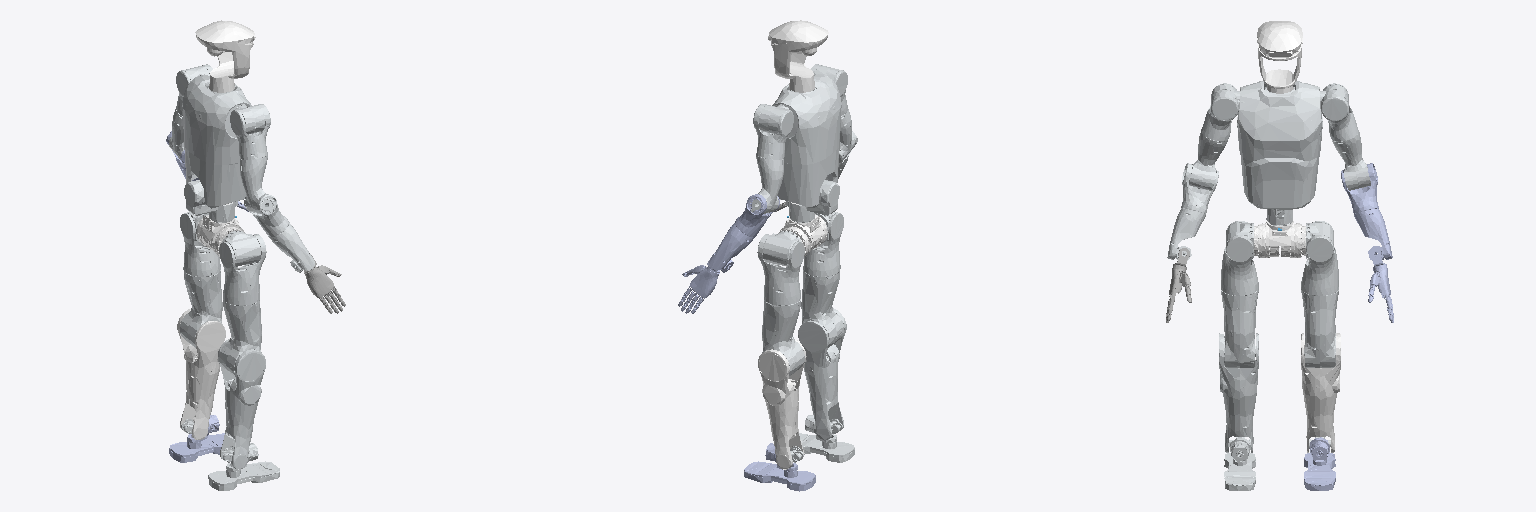
--- What the picture shows (computed from the rendered views, not written in the file) ---
The picture shows the robot from 3 angles, left to right: view 1: azimuth 30°, elevation 25°; view 2: azimuth 150°, elevation 25°; view 3: azimuth 270°, elevation 25°; orthographic projection.
Model T170-V2.1-A0-mass with 42 links and 41 joints (12 revolute, 29 fixed), rooted at base_link, posed all joints at 0.
Links seen in each view (by area): view 1: WAIST_P_S, R_KNEE_P_S, L_KNEE_P_S, NECK_Y_S, R_HIP_Y_S, L_HIP_Y_S, R_HIP_R_S, R_ANKLE_R_S, L_HIP_R_S, R_SHOULDER_R_S, L_ANKLE_R_S, R_SHOULDER_Y_S (+7 smaller); view 2: WAIST_P_S, L_KNEE_P_S, R_KNEE_P_S, NECK_Y_S, L_HIP_Y_S, R_HIP_Y_S, L_HIP_R_S, L_ANKLE_R_S, R_HIP_R_S, L_SHOULDER_R_S, R_ANKLE_R_S, L_SHOULDER_Y_S (+7 smaller); view 3: WAIST_P_S, L_KNEE_P_S, R_KNEE_P_S, NECK_Y_S, R_HIP_Y_S, L_HIP_Y_S, L_HIP_R_S, R_HIP_R_S, base_link, R_ANKLE_R_S, L_ANKLE_R_S, R_SHOULDER_R_S (+9 smaller).
Boxes of the visible links, <box> form: WAIST_P_S: <box>182,74,253,208</box>; R_KNEE_P_S: <box>218,339,265,469</box>; L_KNEE_P_S: <box>177,309,225,439</box>; NECK_Y_S: <box>195,20,255,92</box>; R_HIP_Y_S: <box>219,300,261,375</box>; L_HIP_Y_S: <box>180,271,222,347</box>; R_HIP_R_S: <box>219,234,266,305</box>; R_ANKLE_R_S: <box>208,443,279,490</box>; L_HIP_R_S: <box>180,213,220,276</box>; R_SHOULDER_R_S: <box>230,104,270,159</box>; L_ANKLE_R_S: <box>169,415,224,462</box>; R_SHOULDER_Y_S: <box>240,155,272,213</box>; WAIST_P_S: <box>772,74,841,207</box>; L_KNEE_P_S: <box>758,339,806,469</box>; R_KNEE_P_S: <box>798,308,846,439</box>; NECK_Y_S: <box>768,20,828,92</box>; L_HIP_Y_S: <box>762,300,804,375</box>; R_HIP_Y_S: <box>801,271,843,347</box>; L_HIP_R_S: <box>757,234,804,305</box>; L_ANKLE_R_S: <box>744,443,815,491</box>; R_HIP_R_S: <box>803,213,843,276</box>; L_SHOULDER_R_S: <box>753,104,793,159</box>; R_ANKLE_R_S: <box>799,415,854,462</box>; L_SHOULDER_Y_S: <box>750,155,783,213</box>; WAIST_P_S: <box>1237,81,1322,209</box>; L_KNEE_P_S: <box>1301,333,1340,452</box>; R_KNEE_P_S: <box>1219,333,1258,452</box>; NECK_Y_S: <box>1257,21,1302,93</box>; R_HIP_Y_S: <box>1221,290,1258,367</box>; L_HIP_Y_S: <box>1301,290,1338,367</box>; L_HIP_R_S: <box>1301,221,1338,295</box>; R_HIP_R_S: <box>1221,221,1258,295</box>; base_link: <box>1254,221,1305,257</box>; R_ANKLE_R_S: <box>1224,438,1255,490</box>; L_ANKLE_R_S: <box>1304,437,1335,490</box>; R_SHOULDER_R_S: <box>1201,83,1238,141</box>.
Size in the robot's own frame: 0.4382 by 0.7899 by 1.72 metres.
Meshes: 31 distinct files referenced, 31 mesh visuals loaded (31 binary STL).

URDF robot description (T170-V2.1-A0-mass):
<?xml version="1.0" encoding="utf-8"?>
<!-- This URDF was automatically created by SolidWorks to URDF Exporter! Originally created by Stephen Brawner ([email redacted])
     Commit Version: 1.6.0-4-g7f85cfe  Build Version: 1.6.7995.38578
     For more information, please see http://wiki.ros.org/sw_urdf_exporter -->
<robot
  name="T170-V2.1-A0-mass">
  <link
    name="base_link">
    <inertial>
      <origin
      xyz="-6.500000000000001e-05 1e-06 -0.045045"
      rpy="0 0 0" />
      <mass
        value="5.294303" />
      <inertia
        ixx="0.024433582611999998"
        ixy="1.3235e-07"
        ixz="1.4710277000000001e-05"
        iyy="0.016612578556"
        iyz="-1.68893e-07"
        izz="0.016497152209000002" />
      </inertial>
    <visual>
      <origin
        xyz="0 0 0"

        rpy="0 0 0" />
      <geometry>
        <mesh
          filename="./meshes/BASE_S.STL" />
      </geometry>
      <material
        name="">
        <color
          rgba="1 1 1 1" />
      </material>
    </visual>
    <collision>
      <origin
        xyz="0 0 -0.08"
        rpy="1.57 0 0" />
			<geometry>
				<cylinder length="0.2" radius="0.05"/>
			</geometry>
    </collision>
  </link>

  <link
    name="L_HIP_P_S">
    <inertial>
              <origin
                xyz="0.012891999999999999 0.041366999999999994 1e-06"
                rpy="0 0 0" />
              <mass
                value="1.60224" />
              <inertia
                ixx="0.002350403566"
                ixy="-7.038434699999999e-05"
                ixz="1.8192000000000002e-08"
                iyy="0.0026586781120000002"
                iyz="5.7659e-08"
                izz="0.0023079587030000004" />
            </inertial>
    <visual>
      <origin
        xyz="0 0 0"
        rpy="0 0 0" />
      <geometry>
        <mesh
          filename="./meshes/L_HIP_P_S.STL" />
      </geometry>
      <material
        name="">
        <color
          rgba="0.898039215686275 0.917647058823529 0.929411764705882 1" />
      </material>
    </visual>
    <!--<collision>
      <origin
        xyz="0 0 0"
        rpy="0 0 0" />
      <geometry>
        <mesh
          filename="./meshes/L_HIP_P_S.STL" />
      </geometry>
    </collision>-->
  </link>
  <joint
    name="L_HIP_P"
    type="revolute">
    <origin
      xyz="0 0.0945 -0.067"
      rpy="0 0 0" />
    <parent
      link="base_link" />
    <child
      link="L_HIP_P_S" />
    <axis
      xyz="0 1 0" />
    <limit
      lower="-3.14"
      upper="3.14"
      effort="267"
      velocity="5.76" />
  </joint>
  <link
    name="L_HIP_R_S">
    <inertial>
              <origin
                xyz="-0.052494 0.001116 -0.135556"
                rpy="0 0 0" />
              <mass
                value="2.123182" />
              <inertia
                ixx="0.007651730159"
                ixy="-1.0006102999999999e-05"
                ixz="-0.001027271998"
                iyy="0.008350014866"
                iyz="-0.00015041607399999998"
                izz="0.003346951658" />
            </inertial>
    <visual>
      <origin
        xyz="0 0 0"
        rpy="0 0 0" />
      <geometry>
        <mesh
          filename="./meshes/L_HIP_R_S.STL" />
      </geometry>
      <material
        name="">
        <color
          rgba="0.898039215686275 0.917647058823529 0.929411764705882 1" />
      </material>
    </visual>
    <!--<collision>
      <origin
        xyz="0 0 0"
        rpy="0 0 0" />
      <geometry>
        <mesh
          filename="./meshes/L_HIP_R_S.STL" />
      </geometry>
    </collision>-->
  </link>
  <joint
    name="L_HIP_R"
    type="revolute">
    <origin
      xyz="0.058 0.044 0"
      rpy="0 0 0" />
    <parent
      link="L_HIP_P_S" />
    <child
      link="L_HIP_R_S" />
    <axis
      xyz="1 0 0" />
    <limit
      lower="-3.14"
      upper="3.14"
      effort="69"
      velocity="8.06" />
  </joint>
  <link
    name="L_HIP_Y_S">
    <inertial>
              <origin
                xyz="0.001701 0.007194 -0.198857"
                rpy="0 0 0" />
              <mass
                value="3.313186" />
              <inertia
                ixx="0.017727672841"
                ixy="-6.456893699999999e-05"
                ixz="-0.000408727743"
                iyy="0.018146293801"
                iyz="-0.00033327960600000004"
                izz="0.006599402896" />
            </inertial>
    <visual>
      <origin
        xyz="0 0 0"
        rpy="0 0 0" />
      <geometry>
        <mesh
          filename="./meshes/L_HIP_Y_S.STL" />
      </geometry>
      <material
        name="">
        <color
          rgba="0.898039215686275 0.917647058823529 0.929411764705882 1" />
      </material>
    </visual>
    <collision>
      <origin
        xyz="0 0.0 -0.05"
        rpy="0 0 0" />
			<geometry>
				<cylinder length="0.2" radius="0.05"/>
			</geometry>
    </collision>
  </link>
  <joint
    name="L_HIP_Y"
    type="revolute">
    <origin
      xyz="-0.058 0 -0.1972"
      rpy="0 0 0" />
    <parent
      link="L_HIP_R_S" />
    <child
      link="L_HIP_Y_S" />
    <axis
      xyz="0 0 -1" />
    <limit
      lower="-3.14"
      upper="3.14"
      effort="121"
      velocity="6.81" />
  </joint>
  <link
    name="L_KNEE_P_S">
    <inertial>
              <origin
                xyz="0.000631 -0.043392 -0.119632"
                rpy="0 0 0" />
              <mass
                value="2.644024" />
              <inertia
                ixx="0.025178069248"
                ixy="-6.2763632e-05"
                ixz="-0.00159828665"
                iyy="0.023717199600000002"
                iyz="-0.00031968927500000005"
                izz="0.006274894778" />
            </inertial>
    <visual>
      <origin
        xyz="0 0 0"
        rpy="0 0 0" />
      <geometry>
        <mesh
          filename="./meshes/L_KNEE_P_S.STL" />
      </geometry>
      <material
        name="">
        <color
          rgba="1 1 1 1" />
      </material>
    </visual>
    <collision>
      <origin
        xyz="0 -0.05 -0.15"
        rpy="0 0 0" />
			<geometry>
				<cylinder length="0.2" radius="0.05"/>
			</geometry>
    </collision>
  </link>
  <joint
    name="L_KNEE_P"
    type="revolute">
    <origin
      xyz="0 0.057 -0.2228"
      rpy="0 0 0" />
    <parent
      link="L_HIP_Y_S" />
    <child
      link="L_KNEE_P_S" />
    <axis
      xyz="0 1 0" />
    <limit
      lower="-3.14"
      upper="3.14"
      effort="267"
      velocity="5.76" />
  </joint>
  <link
    name="L_ANKLE_P_S">
    <inertial>
              <origin
                xyz="-0.0051920000000000004 -0.003552 0.001356"
                rpy="0 0 0" />
              <mass
                value="0.208363" />
              <inertia
                ixx="0.000112416441"
                ixy="1.092665e-06"
                ixz="7.950015000000001e-06"
                iyy="7.9570327e-05"
                iyz="-2.66666e-07"
                izz="0.00015223668599999998" />
            </inertial>
    <visual>
      <origin
        xyz="0 0 0"
        rpy="0 0 0" />
      <geometry>
        <mesh
          filename="./meshes/L_ANKLE_P_S.STL" />
      </geometry>
      <material
        name="">
        <color
          rgba="0.898039215686275 0.917647058823529 0.929411764705882 1" />
      </material>
    </visual>
    <!--<collision>
      <origin
        xyz="0 0 0"
        rpy="0 0 0" />
      <geometry>
        <mesh
          filename="./meshes/L_ANKLE_P_S.STL" />
      </geometry>
    </collision>-->
  </link>
  <joint
    name="L_ANKLE_P"
    type="revolute">
    <origin
      xyz="-0.032248 -0.058 -0.36859"
      rpy="0 0 0" />
    <parent
      link="L_KNEE_P_S" />
    <child
      link="L_ANKLE_P_S" />
    <axis
      xyz="0 -1 0" />
    <limit
      lower="-3.14"
      upper="3.14"
      effort="69"
      velocity="8.06" />
  </joint>
  <link
    name="L_ANKLE_R_S">
    <inertial>
              <origin
                xyz="0.016272 2e-06 -0.054217"
                rpy="0 0 0" />
              <mass
                value="1.670521" />
              <inertia
                ixx="0.0034800322570000004"
                ixy="1.9162e-07"
                ixz="-0.000268219044"
                iyy="0.008485757659"
                iyz="1.3101000000000001e-08"
                izz="0.006910381204" />
            </inertial>
    <visual>
      <origin
        xyz="0 0 0"
        rpy="0 0 0" />
      <geometry>
        <mesh
          filename="./meshes/L_ANKLE_R_S.STL" />
      </geometry>
      <material
        name="">
        <color
          rgba="0.792156862745098 0.819607843137255 0.933333333333333 1" />
      </material>
    </visual>
    <!--<collision>
      <origin
        xyz="0 0 0"
        rpy="0 0 0" />
      <geometry>
        <mesh
          filename="./meshes/L_ANKLE_R_S.STL" />
      </geometry>
    </collision>-->

    <collision>
      <origin
        xyz="0.02 0 -0.08"
        rpy="0 0 0" />
      <geometry>
        <box size="0.24 0.11 0.03"/>
      </geometry>
    </collision>

  </link>
  <joint
    name="L_ANKLE_R"
    type="revolute">
    <origin
      xyz="0.023 0 0"
      rpy="0 0 0" />
    <parent
      link="L_ANKLE_P_S" />
    <child
      link="L_ANKLE_R_S" />
    <axis
      xyz="1 0 0" />
    <limit
      lower="-3.14"
      upper="3.14"
      effort="23"
      velocity="10.16" />
  </joint>
  <link
    name="R_HIP_P_S">
    <inertial>
              <origin
                xyz="0.012891999999999999 -0.041366999999999994 1e-06"
                rpy="0 0 0" />
              <mass
                value="1.602236" />
              <inertia
                ixx="0.002350387347"
                ixy="7.0386011e-05"
                ixz="2.08997e-07"
                iyy="0.002658669353"
                iyz="-5.7559e-08"
                izz="0.002307962669" />
            </inertial>
    <visual>
      <origin
        xyz="0 0 0"
        rpy="0 0 0" />
      <geometry>
        <mesh
          filename="./meshes/R_HIP_P_S.STL" />
      </geometry>
      <material
        name="">
        <color
          rgba="0.898039215686275 0.917647058823529 0.929411764705882 1" />
      </material>
    </visual>
    <!--<collision>
      <origin
        xyz="0 0 0"
        rpy="0 0 0" />
      <geometry>
        <mesh
          filename="./meshes/R_HIP_P_S.STL" />
      </geometry>
    </collision>-->
  </link>
  <joint
    name="R_HIP_P"
    type="revolute">
    <origin
      xyz="0 -0.0945 -0.067"
      rpy="0 0 0" />
    <parent
      link="base_link" />
    <child
      link="R_HIP_P_S" />
    <axis
      xyz="0 -1 0" />
    <limit
      lower="-3.14"
      upper="3.14"
      effort="267"
      velocity="5.76" />
  </joint>
  <link
    name="R_HIP_R_S">
    <inertial>
              <origin
                xyz="-0.052494 -0.001116 -0.135556"
                rpy="0 0 0" />
              <mass
                value="2.123172" />
              <inertia
                ixx="0.007651678789"
                ixy="9.966719e-06"
                ixz="-0.001027351346"
                iyy="0.008350089033"
                iyz="0.000150362603"
                izz="0.00334698021" />
            </inertial>
    <visual>
      <origin
        xyz="0 0 0"
        rpy="0 0 0" />
      <geometry>
        <mesh
          filename="./meshes/R_HIP_R_S.STL" />
      </geometry>
      <material
        name="">
        <color
          rgba="0.898039215686275 0.917647058823529 0.929411764705882 1" />
      </material>
    </visual>
    <!--<collision>
      <origin
        xyz="0 0 0"
        rpy="0 0 0" />
      <geometry>
        <mesh
          filename="./meshes/R_HIP_R_S.STL" />
      </geometry>
    </collision>-->
  </link>
  <joint
    name="R_HIP_R"
    type="revolute">
    <origin
      xyz="0.058 -0.044 0"
      rpy="0 0 0" />
    <parent
      link="R_HIP_P_S" />
    <child
      link="R_HIP_R_S" />
    <axis
      xyz="-1 0 0" />
    <limit
      lower="-3.14"
      upper="3.14"
      effort="69"
      velocity="8.06" />
  </joint>
  <link
    name="R_HIP_Y_S">
    <inertial>
              <origin
                xyz="0.001702 -0.007193 -0.198851"
                rpy="0 0 0" />
              <mass
                value="3.313288" />
              <inertia
                ixx="0.017731261837000002"
                ixy="6.415347800000001e-05"
                ixz="-0.000409299561"
                iyy="0.018149824549"
                iyz="0.000332521739"
                izz="0.006599775929" />
            </inertial>
    <visual>
      <origin
        xyz="0 0 0"
        rpy="0 0 0" />
      <geometry>
        <mesh
          filename="./meshes/R_HIP_Y_S.STL" />
      </geometry>
      <material
        name="">
        <color
          rgba="0.898039215686275 0.917647058823529 0.929411764705882 1" />
      </material>
    </visual>
    <collision>
      <origin
        xyz="0 0.0 -0.05"
        rpy="0 0 0" />
			<geometry>
				<cylinder length="0.2" radius="0.05"/>
			</geometry>
    </collision>
  </link>
  <joint
    name="R_HIP_Y"
    type="revolute">
    <origin
      xyz="-0.058 0 -0.1972"
      rpy="0 0 0" />
    <parent
      link="R_HIP_R_S" />
    <child
      link="R_HIP_Y_S" />
    <axis
      xyz="0 0 -1" />
    <limit
      lower="-3.14"
      upper="3.14"
      effort="121"
      velocity="6.81" />
  </joint>
  <link
    name="R_KNEE_P_S">
    <inertial>
              <origin
                xyz="0.0006360000000000001 0.04339 -0.119639"
                rpy="0 0 0" />
              <mass
                value="2.644373" />
              <inertia
                ixx="0.025184545238"
                ixy="6.2682668e-05"
                ixz="-0.001598721426"
                iyy="0.023724867226"
                iyz="0.000318879433"
                izz="0.006275270264" />
            </inertial>
    <visual>
      <origin
        xyz="0 0 0"
        rpy="0 0 0" />
      <geometry>
        <mesh
          filename="./meshes/R_KNEE_P_S.STL" />
      </geometry>
      <material
        name="">
        <color
          rgba="0.898039215686275 0.917647058823529 0.929411764705882 1" />
      </material>
    </visual>
    <collision>
      <origin
        xyz="0 0.05 -0.15"
        rpy="0 0 0" />
			<geometry>
				<cylinder length="0.2" radius="0.05"/>
			</geometry>
    </collision>
  </link>
  <joint
    name="R_KNEE_P"
    type="revolute">
    <origin
      xyz="0 -0.057 -0.2228"
      rpy="0 0 0" />
    <parent
      link="R_HIP_Y_S" />
    <child
      link="R_KNEE_P_S" />
    <axis
      xyz="0 -1 0" />
    <limit
      lower="-3.14"
      upper="3.14"
      effort="267"
      velocity="5.76" />
  </joint>
  <link
    name="R_ANKLE_P_S">
    <inertial>
              <origin
                xyz="-0.005285 0.0029 0.00138"
                rpy="0 0 0" />
              <mass
                value="0.20469900000000002" />
              <inertia
                ixx="0.000106648193"
                ixy="-3.86891e-07"
                ixz="7.923754e-06"
                iyy="7.7879228e-05"
                iyz="8.2406e-08"
                izz="0.00014637474900000002" />
            </inertial>
    <visual>
      <origin
        xyz="0 0 0"
        rpy="0 0 0" />
      <geometry>
        <mesh
          filename="./meshes/R_ANKLE_P_S.STL" />
      </geometry>
      <material
        name="">
        <color
          rgba="0.898039215686275 0.917647058823529 0.929411764705882 1" />
      </material>
    </visual>
    <!--<collision>
      <origin
        xyz="0 0 0"
        rpy="0 0 0" />
      <geometry>
        <mesh
          filename="./meshes/R_ANKLE_P_S.STL" />
      </geometry>
    </collision>-->
  </link>
  <joint
    name="R_ANKLE_P"
    type="revolute">
    <origin
      xyz="-0.032248 0.058 -0.36859"
      rpy="0 0 0" />
    <parent
      link="R_KNEE_P_S" />
    <child
      link="R_ANKLE_P_S" />
    <axis
      xyz="0 1 0" />
    <limit
      lower="-3.14"
      upper="3.14"
      effort="69"
      velocity="8.06" />
  </joint>
  <link
    name="R_ANKLE_R_S">
    <inertial>
              <origin
                xyz="0.016272 -2e-06 -0.054217"
                rpy="0 0 0" />
              <mass
                value="1.67052" />
              <inertia
                ixx="0.003480032579"
                ixy="-1.91673e-07"
                ixz="-0.00026821871500000004"
                iyy="0.00848575142"
                iyz="-1.399e-08"
                izz="0.00691037666" />
            </inertial>
    <visual>
      <origin
        xyz="0 0 0"
        rpy="0 0 0" />
      <geometry>
        <mesh
          filename="./meshes/R_ANKLE_R_S.STL" />
      </geometry>
      <material
        name="">
        <color
          rgba="0.898039215686275 0.917647058823529 0.929411764705882 1" />
      </material>
    </visual>
    <!--<collision>
      <origin
        xyz="0 0 0"
        rpy="0 0 0" />
      <geometry>
        <mesh
          filename="./meshes/R_ANKLE_R_S.STL" />
      </geometry>
    </collision>-->


    <collision>
      <origin
        xyz="0.02 0 -0.08"
        rpy="0 0 0" />
      <geometry>
        <box size="0.24 0.11 0.03"/>
      </geometry>
    </collision>
  </link>
  <joint
    name="R_ANKLE_R"
    type="revolute">
    <origin
      xyz="0.023 0 0"
      rpy="0 0 0" />
    <parent
      link="R_ANKLE_P_S" />
    <child
      link="R_ANKLE_R_S" />
    <axis
      xyz="1 0 0" />
    <limit
      lower="-3.14"
      upper="3.14"
      effort="23"
      velocity="10.16" />
  </joint>
  <link
    name="WAIST_Y_S">
    <inertial>
              <origin
                xyz="-0.070117 0.0 0.109774"
                rpy="0 0 0" />
              <mass
                value="1.49971" />
              <inertia
                ixx="0.002892639151"
                ixy="-6.4603e-08"
                ixz="0.0011632690249999999"
                iyy="0.005042794342"
                iyz="1.3865e-08"
                izz="0.003666403193" />
            </inertial>
    <visual>
      <origin
        xyz="0 0 0"
        rpy="0 0 0" />
      <geometry>
        <mesh
          filename="./meshes/WAIST_Y_S.STL" />
      </geometry>
      <material
        name="">
        <color
          rgba="0.898039215686275 0.917647058823529 0.929411764705882 1" />
      </material>
    </visual>
    <!--<collision>
      <origin
        xyz="0 0 0"
        rpy="0 0 0" />
      <geometry>
        <mesh
          filename="./meshes/WAIST_Y_S.STL" />
      </geometry>
    </collision>-->
  </link>
  <joint
    name="WAIST_Y"
    type="fixed">
    <origin
      xyz="0 0 0"
      rpy="0 0 0" />
    <parent
      link="base_link" />
    <child
      link="WAIST_Y_S" />
    <axis
      xyz="0 0 1" />
    <limit
      lower="-3.14"
      upper="3.14"
      effort="63"
      velocity="8.06" />
  </joint>
  <link
    name="WAIST_R_S">
    <inertial>
              <origin
                xyz="0.047638 0.0060609999999999995 0.0"
                rpy="0 0 0" />
              <mass
                value="1.3648900000000002" />
              <inertia
                ixx="0.0013838946489999999"
                ixy="-1.4820964e-05"
                ixz="1.2329e-08"
                iyy="0.001586091616"
                iyz="6.57485e-07"
                izz="0.001453676082" />
            </inertial>
    <visual>
      <origin
        xyz="0 0 0"
        rpy="0 0 0" />
      <geometry>
        <mesh
          filename="./meshes/WAIST_R_S.STL" />
      </geometry>
      <material
        name="">
        <color
          rgba="0.898039215686275 0.917647058823529 0.929411764705882 1" />
      </material>
    </visual>
    <!--<collision>
      <origin
        xyz="0 0 0"
        rpy="0 0 0" />
      <geometry>
        <mesh
          filename="./meshes/WAIST_R_S.STL" />
      </geometry>
    </collision>-->
  </link>
  <joint
    name="WAIST_R"
    type="fixed">
    <origin
      xyz="-0.0495 0 0.127"
      rpy="0 0 0" />
    <parent
      link="WAIST_Y_S" />
    <child
      link="WAIST_R_S" />
    <axis
      xyz="1 0 0" />
    <limit
      lower="-0.61"
      upper="0.61"
      effort="63"
      velocity="8.06" />
  </joint>
  <link
    name="WAIST_P_S">
    <inertial>
              <origin
                xyz="0.00211 -0.046560000000000004 0.245727"
                rpy="0 0 0" />
              <mass
                value="11.080885" />
              <inertia
                ixx="0.11949464686200001"
                ixy="-5.1488261e-05"
                ixz="0.0020396562460000003"
                iyy="0.08538231980699999"
                iyz="2.4585865000000002e-05"
                izz="0.065471635027" />
            </inertial>
    <visual>
      <origin
        xyz="0 0 0"
        rpy="0 0 0" />
      <geometry>
        <mesh
          filename="./meshes/WAIST_P_S.STL" />
      </geometry>
      <material
        name="">
        <color
          rgba="0.898039215686275 0.917647058823529 0.929411764705882 1" />
      </material>
    </visual>
    <collision>
      <origin
        xyz="0 0 0"
        rpy="0 0 0" />
      <geometry>
        <mesh
          filename="./meshes/WAIST_P_S.STL" />
      </geometry>
    </collision>
  </link>
  <joint
    name="WAIST_P"
    type="fixed">
    <origin
      xyz="0.0495 0.0465 0"
      rpy="0 0 0" />
    <parent
      link="WAIST_R_S" />
    <child
      link="WAIST_P_S" />
    <axis
      xyz="0 1 0" />
    <limit
      lower="-0.244"
      upper="0.523"
      effort="63"
      velocity="8.06" />
  </joint>
  <link
    name="L_SHOULDER_P_S">
    <inertial>
              <origin
                xyz="0.011526 0.059677999999999995 0.0"
                />
              <mass
                value="1.444881" />
              <inertia
                ixx="0.001949609421"
                ixy="-9.1641714e-05"
                ixz="3.02e-09"
                iyy="0.0015971993259999999"
                iyz="2.784e-09"
                izz="0.001979001997" />
            </inertial>
    <visual>
      <origin
        xyz="0 0 0"
        />
      <geometry>
        <mesh
          filename="./meshes/L_SHOULDER_P_S.STL" />
      </geometry>
      <material
        name="">
        <color
          rgba="0.898039215686275 0.917647058823529 0.929411764705882 1" />
      </material>
    </visual>
    <!--<collision>
      <origin
        xyz="0 0 0"
        rpy="0 0 0" />
      <geometry>
        <mesh
          filename="./meshes/L_SHOULDER_P_S.STL" />
      </geometry>
    </collision>-->
  </link>
  <joint
    name="L_SHOULDER_P"
    type="fixed">
    <origin
      xyz="0.0005 0.0775 0.336"
      />
    <parent
      link="WAIST_P_S" />
    <child
      link="L_SHOULDER_P_S" />
    <axis
      xyz="0 1 0" />
    <limit
      lower="-3.14"
      upper="3.14"
      effort="63"
      velocity="8.06" />
  </joint>
  <link
    name="L_SHOULDER_R_S">
    <inertial>
              <origin
                xyz="-0.050103 0.088587 0.000207"
                />
              <mass
                value="1.014451" />
              <inertia
                ixx="0.002349561045"
                ixy="0.000320579472"
                ixz="1.414894e-06"
                iyy="0.0011315652760000002"
                iyz="1.6244966e-05"
                izz="0.002633113913" />
            </inertial>
    <visual>
      <origin
        xyz="0 0 0"
         />
      <geometry>
        <mesh
          filename="./meshes/L_SHOULDER_R_S.STL" />
      </geometry>
      <material
        name="">
        <color
          rgba="0.898039215686275 0.917647058823529 0.929411764705882 1" />
      </material>
    </visual>
    <!--<collision>
      <origin
        xyz="0 0 0"
        rpy="0 0 0" />
      <geometry>
        <mesh
          filename="./meshes/L_SHOULDER_R_S.STL" />
      </geometry>
    </collision>-->
  </link>
  <joint
    name="L_SHOULDER_R"
    type="fixed">
    <origin
      xyz="0.054 0.066 0"
      rpy="-1.3 0 0" />
    <parent
      link="L_SHOULDER_P_S" />
    <child
      link="L_SHOULDER_R_S" />
    <axis
      xyz="1 0 0" />
    <limit
      lower="-1.57"
      upper="1.57"
      effort="63"
      velocity="8.06" />
  </joint>
  <link
    name="L_SHOULDER_Y_S">
    <inertial>
              <origin
                xyz="-0.002242 0.128183 0.013930999999999999"
                 />
              <mass
                value="1.09809" />
              <inertia
                ixx="0.0043556597410000005"
                ixy="-0.00014642066000000002"
                ixz="-2.0792439999999997e-05"
                iyy="0.001024987862"
                iyz="-0.000155152164"
                izz="0.00415956279" />
            </inertial>
    <visual>
      <origin
        xyz="0 0 0"
         />
      <geometry>
        <mesh
          filename="./meshes/L_SHOULDER_Y_S.STL" />
      </geometry>
      <material
        name="">
        <color
          rgba="0.898039215686275 0.917647058823529 0.929411764705882 1" />
      </material>
    </visual>
    <!--<collision>
      <origin
        xyz="0 0 0"
        rpy="0 0 0" />
      <geometry>
        <mesh
          filename="./meshes/L_SHOULDER_Y_S.STL" />
      </geometry>
    </collision>-->
  </link>
  <joint
    name="L_SHOULDER_Y"
    type="fixed">
    <origin
      xyz="-0.054 0.1395 0"
      />
    <parent
      link="L_SHOULDER_R_S" />
    <child
      link="L_SHOULDER_Y_S" />
    <axis
      xyz="0 1 0" />
    <limit
      lower="-3.14"
      upper="3.14"
      effort="42"
      velocity="8.59" />
  </joint>
  <link
    name="L_ELBOW_Y_S">
    <inertial>
              <origin
                xyz="-0.000772 0.079344 -0.047655"
                 />
              <mass
                value="0.71509" />
              <inertia
                ixx="0.0015319294410000002"
                ixy="-2.9833332999999998e-05"
                ixz="-1.601666e-06"
                iyy="0.0008379935259999999"
                iyz="0.00011718606699999999"
                izz="0.001338291607" />
            </inertial>
    <visual>
      <origin
        xyz="0 0 0"
         />
      <geometry>
        <mesh
          filename="./meshes/L_ELBOW_Y_S.STL" />
      </geometry>
      <material
        name="">
        <color
          rgba="0.792156862745098 0.819607843137255 0.933333333333333 1" />
      </material>
    </visual>
    <collision>
      <origin
        xyz="0 0 0"
        />
      <geometry>
        <mesh
          filename="./meshes/L_ELBOW_Y_S.STL" />
      </geometry>
    </collision>
  </link>
  <joint
    name="L_ELBOW_Y"
    type="fixed">
    <origin
      xyz="0 0.1605 0.051"
      rpy="0 0 -0.5" />
    <parent
      link="L_SHOULDER_Y_S" />
    <child
      link="L_ELBOW_Y_S" />
    <axis
      xyz="0 0 1" />
    <limit
      lower="-2.4"
      upper="0.87"
      effort="42"
      velocity="8.59" />
  </joint>
  <link
    name="L_WRIST_P_S">
    <inertial>
              <origin
                xyz="-2e-05 0.051770000000000004 0.015054"
                 />
              <mass
                value="0.787608" />
              <inertia
                ixx="0.0018731701289999999"
                ixy="2.748841e-06"
                ixz="3.4995299999999996e-07"
                iyy="0.000729715644"
                iyz="-0.000416873988"
                izz="0.001676076534" />
            </inertial>
    <visual>
      <origin
        xyz="0 0 0"
        />
      <geometry>
        <mesh
          filename="./meshes/L_WRIST_P_S.STL" />
      </geometry>
      <material
        name="">
        <color
          rgba="0.792156862745098 0.819607843137255 0.933333333333333 1" />
      </material>
    </visual>
    <!--<collision>
      <origin
        xyz="0 0 0"
        rpy="0 0 0" />
      <geometry>
        <mesh
          filename="./meshes/L_WRIST_P_S.STL" />
      </geometry>
    </collision>-->
  </link>
  <joint
    name="L_WRIST_P"
    type="fixed">
    <origin
      xyz="0 0.1281 -0.051"
      />
    <parent
      link="L_ELBOW_Y_S" />
    <child
      link="L_WRIST_P_S" />
    <axis
      xyz="0 1 0" />
    <limit
      lower="-3.14"
      upper="3.14"
      effort="23"
      velocity="10.16" />
  </joint>
  <link
    name="L_WRIST_Y_S">
    <inertial>
              <origin
                xyz="-0.0007840000000000001 0.00022600000000000002 -0.037801"
                 />
              <mass
                value="0.38146199999999997" />
              <inertia
                ixx="0.000182718093"
                ixy="1.6518999999999999e-07"
                ixz="-9.57867e-07"
                iyy="0.00021651213"
                iyz="-4.338e-08"
                izz="0.000172529454" />
            </inertial>
    <visual>
      <origin
        xyz="0 0 0"
        />
      <geometry>
        <mesh
          filename="./meshes/L_WRIST_Y_S.STL" />
      </geometry>
      <material
        name="">
        <color
          rgba="0.792156862745098 0.819607843137255 0.933333333333333 1" />
      </material>
    </visual>
    <!--<collision>
      <origin
        xyz="0 0 0"
        rpy="0 0 0" />
      <geometry>
        <mesh
          filename="./meshes/L_WRIST_Y_S.STL" />
      </geometry>
    </collision>-->
  </link>
  <joint
    name="L_WRIST_Y"
    type="fixed">
    <origin
      xyz="9.0984E-05 0.14468 0.0425"
       />
    <parent
      link="L_WRIST_P_S" />
    <child
      link="L_WRIST_Y_S" />
    <axis
      xyz="0 0 1" />
    <limit
      lower="-0.69"
      upper="0.69"
      effort="8.3"
      velocity="12.36" />
  </joint>
  <link
    name="L_WRIST_R_S">
    <inertial>
              <origin
                xyz="-0.011640000000000001 0.118483 -0.0036030000000000003"
                />
              <mass
                value="0.553221" />
              <inertia
                ixx="0.001536982549"
                ixy="8.1942823e-05"
                ixz="0.000146124869"
                iyy="0.000603820302"
                iyz="4.045243e-06"
                izz="0.001875863069" />
            </inertial>
    <visual>
      <origin
        xyz="0 0 0"
         />
      <geometry>
        <mesh
          filename="./meshes/L_WRIST_R_S.STL" />
      </geometry>
      <material
        name="">
        <color
          rgba="0.792156862745098 0.819607843137255 0.933333333333333 1" />
      </material>
    </visual>
    <!--<collision>
      <origin
        xyz="0 0 0"
        rpy="0 0 0" />
      <geometry>
        <mesh
          filename="./meshes/L_WRIST_R_S.STL" />
      </geometry>
    </collision>-->

    <collision>
      <origin
        xyz="0 0.2 0"
        />
      <geometry>
        <box size="0.08 0.1 0.05"/>
      </geometry>
    </collision>

  </link>
  <joint
    name="L_WRIST_R"
    type="fixed">
    <origin
      xyz="0.030909 0.00022307 -0.0415"
      rpy="0 0 0" />
    <parent
      link="L_WRIST_Y_S" />
    <child
      link="L_WRIST_R_S" />
    <axis
      xyz="1 0 0" />
    <limit
      lower="-2.35"
      upper="0.348"
      effort="8.3"
      velocity="12.36" />
  </joint>
  <link
    name="R_SHOULDER_P_S">
    <inertial>
              <origin
                xyz="0.010619 -0.059179 0"
                />
              <mass
                value="1.4546679999999999" />
              <inertia
                ixx="0.001954186556"
                ixy="8.813481600000001e-05"
                ixz="-5.440000000000001e-10"
                iyy="0.0016309633759999998"
                iyz="1.352e-09"
                izz="0.002013157615" />
            </inertial>
    <visual>
      <origin
        xyz="0 0 0"
        />
      <geometry>
        <mesh
          filename="./meshes/R_SHOULDER_P_S.STL" />
      </geometry>
      <material
        name="">
        <color
          rgba="0.898039215686275 0.917647058823529 0.929411764705882 1" />
      </material>
    </visual>
    <!--<collision>
      <origin
        xyz="0 0 0"
        rpy="0 0 0" />
      <geometry>
        <mesh
          filename="./meshes/R_SHOULDER_P_S.STL" />
      </geometry>
    </collision>-->
  </link>
  <joint
    name="R_SHOULDER_P"
    type="fixed">
    <origin
      xyz="0.0005 -0.1705 0.336"
       />
    <parent
      link="WAIST_P_S" />
    <child
      link="R_SHOULDER_P_S" />
    <axis
      xyz="0 1 0" />
    <limit
      lower="-3.14"
      upper="3.14"
      effort="63"
      velocity="8.06" />
  </joint>
  <link
    name="R_SHOULDER_R_S">
    <inertial>
              <origin
                xyz="-0.046824 -0.072798 0.000381"
                />
              <mass
                value="1.014496" />
              <inertia
                ixx="0.002349644494"
                ixy="-0.000320589934"
                ixz="1.437102e-06"
                iyy="0.001131637812"
                iyz="-1.6236977e-05"
                izz="0.002633199673" />
            </inertial>
    <visual>
      <origin
        xyz="0 0 0"
        />
      <geometry>
        <mesh
          filename="./meshes/R_SHOULDER_R_S.STL" />
      </geometry>
      <material
        name="">
        <color
          rgba="0.898039215686275 0.917647058823529 0.929411764705882 1" />
      </material>
    </visual>
    <!--<collision>
      <origin
        xyz="0 0 0"
        rpy="0 0 0" />
      <geometry>
        <mesh
          filename="./meshes/R_SHOULDER_R_S.STL" />
      </geometry>
    </collision>-->
  </link>
  <joint
    name="R_SHOULDER_R"
    type="fixed">
    <origin
      xyz="0.054 -0.066 0"
      rpy="1.3 0 0" />
    <parent
      link="R_SHOULDER_P_S" />
    <child
      link="R_SHOULDER_R_S" />
    <axis
      xyz="1 0 0" />
    <limit
      lower="-1.57"
      upper="1.57"
      effort="63"
      velocity="8.06" />
  </joint>
  <link
    name="R_SHOULDER_Y_S">
    <inertial>
              <origin
                xyz="-0.003882 -0.10458 0.010336"
                 />
              <mass
                value="1.098095" />
              <inertia
                ixx="0.004355094775"
                ixy="0.00014650948800000002"
                ixz="-2.0837701e-05"
                iyy="0.00102492432"
                iyz="0.00015511217300000002"
                izz="0.004159196881" />
            </inertial>
    <visual>
      <origin
        xyz="0 0 0"
         />
      <geometry>
        <mesh
          filename="./meshes/R_SHOULDER_Y_S.STL" />
      </geometry>
      <material
        name="">
        <color
          rgba="0.898039215686275 0.917647058823529 0.929411764705882 1" />
      </material>
    </visual>
    <!--<collision>
      <origin
        xyz="0 0 0"
        rpy="0 0 0" />
      <geometry>
        <mesh
          filename="./meshes/R_SHOULDER_Y_S.STL" />
      </geometry>
    </collision>-->
  </link>
  <joint
    name="R_SHOULDER_Y"
    type="fixed">
    <origin
      xyz="-0.054 -0.1395 0"
       />
    <parent
      link="R_SHOULDER_R_S" />
    <child
      link="R_SHOULDER_Y_S" />
    <axis
      xyz="0 1 0" />
    <limit
      lower="-3.14"
      upper="3.14"
      effort="42"
      velocity="8.59" />
  </joint>
  <link
    name="R_ELBOW_Y_S">
    <inertial>
              <origin
                xyz="-0.000784 -0.079077 -0.047592"
                 />
              <mass
                value="0.71504" />
              <inertia
                ixx="0.0015318807949999999"
                ixy="2.9772111e-05"
                ixz="-1.560932e-06"
                iyy="0.000837959623"
                iyz="-0.000117236974"
                izz="0.0013381406899999999" />
            </inertial>
    <visual>
      <origin
        xyz="0 0 0"
        />
      <geometry>
        <mesh
          filename="./meshes/R_ELBOW_Y_S.STL" />
      </geometry>
      <material
        name="">
        <color
          rgba="0.898039215686275 0.917647058823529 0.929411764705882 1" />
      </material>
    </visual>
    <collision>
      <origin
        xyz="0 0 0"
         />
      <geometry>
        <mesh
          filename="./meshes/R_ELBOW_Y_S.STL" />
      </geometry>
    </collision>
  </link>
  <joint
    name="R_ELBOW_Y"
    type="fixed">
    <origin
      xyz="0 -0.1605 0.051"
      rpy="0 0 0.5" />
    <parent
      link="R_SHOULDER_Y_S" />
    <child
      link="R_ELBOW_Y_S" />
    <axis
      xyz="0 0 1" />
    <limit
      lower="-0.87"
      upper="2.4"
      effort="42"
      velocity="8.59" />
  </joint>
  <link
    name="R_WRIST_P_S">
    <inertial>
              <origin
                xyz="0 -0.051437 0.014735"
                />
              <mass
                value="0.7868890000000001" />
              <inertia
                ixx="0.001872273263"
                ixy="-3.080441e-06"
                ixz="2.88905e-07"
                iyy="0.000729272968"
                iyz="0.000417065446"
                izz="0.001675513763" />
            </inertial>
    <visual>
      <origin
        xyz="0 0 0"
        />
      <geometry>
        <mesh
          filename="./meshes/R_WRIST_P_S.STL" />
      </geometry>
      <material
        name="">
        <color
          rgba="0.898039215686275 0.917647058823529 0.929411764705882 1" />
      </material>
    </visual>
    <!--<collision>
      <origin
        xyz="0 0 0"
        rpy="0 0 0" />
      <geometry>
        <mesh
          filename="./meshes/R_WRIST_P_S.STL" />
      </geometry>
    </collision>-->
  </link>
  <joint
    name="R_WRIST_P"
    type="fixed">
    <origin
      xyz="0 -0.1281 -0.051"
       />
    <parent
      link="R_ELBOW_Y_S" />
    <child
      link="R_WRIST_P_S" />
    <axis
      xyz="0 1 0" />
    <limit
      lower="-3.14"
      upper="3.14"
      effort="23"
      velocity="10.16" />
  </joint>
  <link
    name="R_WRIST_Y_S">
    <inertial>
              <origin
                xyz="-0.000915 -0.000224 -0.039334"
                />
              <mass
                value="0.38146199999999997" />
              <inertia
                ixx="0.000182718093"
                ixy="-1.6518999999999999e-07"
                ixz="-9.57867e-07"
                iyy="0.00021651213"
                iyz="4.338e-08"
                izz="0.000172529454" />
            </inertial>
    <visual>
      <origin
        xyz="0 0 0"
        />
      <geometry>
        <mesh
          filename="./meshes/R_WRIST_Y_S.STL" />
      </geometry>
      <material
        name="">
        <color
          rgba="0.898039215686275 0.917647058823529 0.929411764705882 1" />
      </material>
    </visual>
    <!--<collision>
      <origin
        xyz="0 0 0"
        rpy="0 0 0" />
      <geometry>
        <mesh
          filename="./meshes/R_WRIST_Y_S.STL" />
      </geometry>
    </collision>-->
  </link>
  <joint
    name="R_WRIST_Y"
    type="fixed">
    <origin
      xyz="9.0984E-05 -0.14468 0.0425"
       />
    <parent
      link="R_WRIST_P_S" />
    <child
      link="R_WRIST_Y_S" />
    <axis
      xyz="0 0 1" />
    <limit
      lower="-0.69"
      upper="0.69"
      effort="8.3"
      velocity="12.36" />
  </joint>
  <link
    name="R_WRIST_R_S">
    <inertial>
              <origin
                xyz="-0.011723 -0.118518 -0.002744"
                />
              <mass
                value="0.553221" />
              <inertia
                ixx="0.001538629013"
                ixy="-8.0720572e-05"
                ixz="0.000152285311"
                iyy="0.0006011281409999999"
                iyz="6.235099e-06"
                izz="0.001871429419" />
            </inertial>
    <visual>
      <origin
        xyz="0 0 0"
       />
      <geometry>
        <mesh
          filename="./meshes/R_WRIST_R_S.STL" />
      </geometry>
      <material
        name="">
        <color
          rgba="0.752941176470588 0.752941176470588 0.752941176470588 1" />
      </material>
    </visual>
    <!--<collision>
      <origin
        xyz="0 0 0"
        rpy="0 0 0" />
      <geometry>
        <mesh
          filename="./meshes/R_WRIST_R_S.STL" />
      </geometry>
    </collision>-->

    <collision>
      <origin
        xyz="0 -0.2 0"
        />
      <geometry>
        <box size="0.08 0.1 0.05"/>
      </geometry>
    </collision>

  </link>
  <joint
    name="R_WRIST_R"
    type="fixed">
    <origin
      xyz="0.030909 -0.00022307 -0.0415"
       />
    <parent
      link="R_WRIST_Y_S" />
    <child
      link="R_WRIST_R_S" />
    <axis
      xyz="1 0 0" />
    <limit
      lower="-0.348"
      upper="2.35"
      effort="8.3"
      velocity="12.36" />
  </joint>
  <link
    name="NECK_Y_S">
    <inertial>
              <origin
                xyz="0.0261 0.00014000000000000001 0.18196700000000002"
                rpy="0 0 0" />
              <mass
                value="2.50061" />
              <inertia
                ixx="0.014941218582000001"
                ixy="-2.5312678e-05"
                ixz="-8.0248209e-05"
                iyy="0.017071265236000003"
                iyz="-8.818254e-06"
                izz="0.009101680967" />
            </inertial>
    <visual>
      <origin
        xyz="0 0 0"
        rpy="0 0 0" />
      <geometry>
        <mesh
          filename="./meshes/NECK_Y_S.STL" />
      </geometry>
      <material
        name="">
        <color
          rgba="1 1 1 1" />
      </material>
    </visual>
    <!--<collision>
      <origin
        xyz="0 0 0"
        rpy="0 0 0" />
      <geometry>
        <mesh
          filename="./meshes/NECK_Y_S.STL" />
      </geometry>
    </collision>-->
  </link>
  <joint
    name="NECK_Y"
    type="fixed">
    <origin
      xyz="0.0005 -0.0465 0.365"
      rpy="0 0 0" />
    <parent
      link="WAIST_P_S" />
    <child
      link="NECK_Y_S" />
    <axis
      xyz="0 0 1" />
    <limit
      lower="-3.14"
      upper="3.14"
      effort="8.3"
      velocity="12.36" />
  </joint>

   <link name="left_foot_front_link" />
  <joint name="left_foot_front_joint" type="fixed" dont_collapse="true">
    <origin xyz="0.12 0 -0.102" rpy="0 0 0" />
    <parent link="L_ANKLE_R_S" />
    <child link="left_foot_front_link" />
  </joint>

  <link name="left_foot_mid_link" />
  <joint name="left_foot_mid_joint" type="fixed" dont_collapse="true">
    <origin xyz="0.05 0 -0.102" rpy="0 0 0" />
    <parent link="L_ANKLE_R_S" />
    <child link="left_foot_mid_link" />
  </joint>

  <link name="left_foot_hind_link" />
  <joint name="left_foot_hind_joint" type="fixed" dont_collapse="true">
    <origin xyz="-0.06 0 -0.102" rpy="0 0 0" />
    <parent link="L_ANKLE_R_S" />
    <child link="left_foot_hind_link" />
  </joint>

  <link name="right_foot_front_link" />
  <joint name="right_foot_front_joint" type="fixed" dont_collapse="true">
    <origin xyz="0.12 0 -0.102" rpy="0 0 0" />
    <parent link="R_ANKLE_R_S" />
    <child link="right_foot_front_link" />
  </joint>

  <link name="right_foot_mid_link" />
  <joint name="right_foot_mid_joint" type="fixed" dont_collapse="true">
    <origin xyz="0.05 0 -0.102" rpy="0 0 0" />
    <parent link="R_ANKLE_R_S" />
    <child link="right_foot_mid_link" />
  </joint>

  <link name="right_foot_hind_link" />
  <joint name="right_foot_hind_joint" type="fixed" dont_collapse="true">
    <origin xyz="-0.06 0 -0.102" rpy="0 0 0" />
    <parent link="R_ANKLE_R_S" />
    <child link="right_foot_hind_link" />
  </joint>

  <link name="left_foot_left_link" />
  <joint name="left_foot_left_joint" type="fixed" dont_collapse="true">
    <origin xyz="0.0 0.065 -0.102" rpy="0 0 0" />
    <parent link="L_ANKLE_R_S" />
    <child link="left_foot_left_link" />
  </joint>

  <link name="left_foot_right_link" />
  <joint name="left_foot_right_joint" type="fixed" dont_collapse="true">
    <origin xyz="0.0 -0.065 -0.102" rpy="0 0 0" />
    <parent link="L_ANKLE_R_S" />
    <child link="left_foot_right_link" />
  </joint>

    <link name="right_foot_left_link" />
  <joint name="right_foot_left_joint" type="fixed" dont_collapse="true">
    <origin xyz="0.0 0.065 -0.102" rpy="0 0 0" />
    <parent link="R_ANKLE_R_S" />
    <child link="right_foot_left_link" />
  </joint>

    <link name="right_foot_right_link" />
  <joint name="right_foot_right_joint" type="fixed" dont_collapse="true">
    <origin xyz="0.0 -0.065 -0.102" rpy="0 0 0" />
    <parent link="R_ANKLE_R_S" />
    <child link="right_foot_right_link" />
  </joint>


  <joint name="base_imu_joint" type="fixed">
    <origin rpy="0. 0. 0." xyz="0.05 0. 0" />
    <parent link="base_link" />
    <child link="base_imu" />
  </joint>
  <!-- Imu link -->
  <link name="base_imu">
    <inertial>
      <mass value="0.01" />
      <origin rpy="0 0 0" xyz="0 0 0" />
      <inertia ixx="0.000001" ixy="0" ixz="0" iyy="0.000001" iyz="0" izz="0.000001" />
    </inertial>
    <visual>
      <origin rpy="0 0 0" xyz="0 0 0" />
      <geometry>
        <box size="0.015 0.015 0.004" />
      </geometry>
    </visual>
    <material name="orange">
      <color rgba="255 108 10 255" />
    </material>
  </link>

  <!-- ros2控制器 -->
  <ros2_control name="t170robot" type="system">
    <hardware>
      <plugin>ros2_control_t170/RobotSystem</plugin>
    </hardware>
<!-- 右腿 -->
    <joint name="R_HIP_P">
      <command_interface name="position"/>
      <command_interface name="velocity"/>
      <command_interface name="effort"/>
      <state_interface name="position"/>
      <state_interface name="velocity"/>
      <state_interface name="effort"/>
    </joint>
    <joint name="R_HIP_R">
      <command_interface name="position"/>
      <command_interface name="velocity"/>
      <command_interface name="effort"/>
      <state_interface name="position"/>
      <state_interface name="velocity"/>
      <state_interface name="effort"/>
    </joint>
    <joint name="R_HIP_Y">
      <command_interface name="position"/>
      <command_interface name="velocity"/>
      <command_interface name="effort"/>
      <state_interface name="position"/>
      <state_interface name="velocity"/>
      <state_interface name="effort"/>
    </joint>
    <joint name="R_KNEE_P">
      <command_interface name="position"/>
      <command_interface name="velocity"/>
      <command_interface name="effort"/>
      <state_interface name="position"/>
      <state_interface name="velocity"/>
      <state_interface name="effort"/>
    </joint>
    <joint name="R_ANKLE_P">
      <command_interface name="position"/>
      <command_interface name="velocity"/>
      <command_interface name="effort"/>
      <state_interface name="position"/>
      <state_interface name="velocity"/>
      <state_interface name="effort"/>
    </joint>
    <joint name="R_ANKLE_R">
      <command_interface name="position"/>
      <command_interface name="velocity"/>
      <command_interface name="effort"/>
      <state_interface name="position"/>
      <state_interface name="velocity"/>
      <state_interface name="effort"/>
    </joint>
    <!-- 左腿 -->
    <joint name="L_HIP_P">
      <command_interface name="position"/>
      <command_interface name="velocity"/>
      <command_interface name="effort"/>
      <state_interface name="position"/>
      <state_interface name="velocity"/>
      <state_interface name="effort"/>
    </joint>
    <joint name="L_HIP_R">
      <command_interface name="position"/>
      <command_interface name="velocity"/>
      <command_interface name="effort"/>
      <state_interface name="position"/>
      <state_interface name="velocity"/>
      <state_interface name="effort"/>
    </joint>
    <joint name="L_HIP_Y">
      <command_interface name="position"/>
      <command_interface name="velocity"/>
      <command_interface name="effort"/>
      <state_interface name="position"/>
      <state_interface name="velocity"/>
      <state_interface name="effort"/>
    </joint>
    <joint name="L_KNEE_P">
      <command_interface name="position"/>
      <command_interface name="velocity"/>
      <command_interface name="effort"/>
      <state_interface name="position"/>
      <state_interface name="velocity"/>
      <state_interface name="effort"/>
    </joint>
    <joint name="L_ANKLE_P">
      <command_interface name="position"/>
      <command_interface name="velocity"/>
      <command_interface name="effort"/>
      <state_interface name="position"/>
      <state_interface name="velocity"/>
      <state_interface name="effort"/>
    </joint>
    <joint name="L_ANKLE_R">
      <command_interface name="position"/>
      <command_interface name="velocity"/>
      <command_interface name="effort"/>
      <state_interface name="position"/>
      <state_interface name="velocity"/>
      <state_interface name="effort"/>
    </joint>
    <!-- 腰部 -->
    <joint name="WAIST_Y">
      <command_interface name="position"/>
      <command_interface name="velocity"/>
      <command_interface name="effort"/>
      <state_interface name="position"/>
      <state_interface name="velocity"/>
      <state_interface name="effort"/>
    </joint>
    <joint name="WAIST_P">
      <command_interface name="position"/>
      <command_interface name="velocity"/>
      <command_interface name="effort"/>
      <state_interface name="position"/>
      <state_interface name="velocity"/>
      <state_interface name="effort"/>
    </joint>
    <joint name="WAIST_R">
      <command_interface name="position"/>
      <command_interface name="velocity"/>
      <command_interface name="effort"/>
      <state_interface name="position"/>
      <state_interface name="velocity"/>
      <state_interface name="effort"/>
    </joint>
    <!-- 右臂 -->
    <joint name="R_SHOULDER_P">
      <command_interface name="position"/>
      <command_interface name="velocity"/>
      <command_interface name="effort"/>
      <state_interface name="position"/>
      <state_interface name="velocity"/>
      <state_interface name="effort"/>
    </joint>
    <joint name="R_SHOULDER_R">
        <command_interface name="position"/>
        <command_interface name="velocity"/>
        <command_interface name="effort"/>
        <state_interface name="position"/>
        <state_interface name="velocity"/>
        <state_interface name="effort"/>
    </joint>

    <joint name="R_SHOULDER_Y">
        <command_interface name="position"/>
        <command_interface name="velocity"/>
        <command_interface name="effort"/>
        <state_interface name="position"/>
        <state_interface name="velocity"/>
        <state_interface name="effort"/>
    </joint>

    <joint name="R_ELBOW_Y">
        <command_interface name="position"/>
        <command_interface name="velocity"/>
        <command_interface name="effort"/>
        <state_interface name="position"/>
        <state_interface name="velocity"/>
        <state_interface name="effort"/>
    </joint>
    <joint name="R_WRIST_P">
        <command_interface name="position"/>
        <command_interface name="velocity"/>
        <command_interface name="effort"/>
        <state_interface name="position"/>
        <state_interface name="velocity"/>
        <state_interface name="effort"/>
    </joint>
    <joint name="R_WRIST_Y">
        <command_interface name="position"/>
        <command_interface name="velocity"/>
        <command_interface name="effort"/>
        <state_interface name="position"/>
        <state_interface name="velocity"/>
        <state_interface name="effort"/>
    </joint>
    <joint name="R_WRIST_R">
        <command_interface name="position"/>
        <command_interface name="velocity"/>
        <command_interface name="effort"/>
        <state_interface name="position"/>
        <state_interface name="velocity"/>
        <state_interface name="effort"/>
    </joint>
        <!-- 左臂 -->
    <joint name="L_SHOULDER_P">
      <command_interface name="position"/>
      <command_interface name="velocity"/>
      <command_interface name="effort"/>
      <state_interface name="position"/>
      <state_interface name="velocity"/>
      <state_interface name="effort"/>
    </joint>
    <joint name="L_SHOULDER_R">
        <command_interface name="position"/>
        <command_interface name="velocity"/>
        <command_interface name="effort"/>
        <state_interface name="position"/>
        <state_interface name="velocity"/>
        <state_interface name="effort"/>
    </joint>

    <joint name="L_SHOULDER_Y">
        <command_interface name="position"/>
        <command_interface name="velocity"/>
        <command_interface name="effort"/>
        <state_interface name="position"/>
        <state_interface name="velocity"/>
        <state_interface name="effort"/>
    </joint>
    <joint name="L_ELBOW_Y">
        <command_interface name="position"/>
        <command_interface name="velocity"/>
        <command_interface name="effort"/>
        <state_interface name="position"/>
        <state_interface name="velocity"/>
        <state_interface name="effort"/>
    </joint>
    <joint name="L_WRIST_P">
        <command_interface name="position"/>
        <command_interface name="velocity"/>
        <command_interface name="effort"/>
        <state_interface name="position"/>
        <state_interface name="velocity"/>
        <state_interface name="effort"/>
    </joint>
    <joint name="L_WRIST_Y">
        <command_interface name="position"/>
        <command_interface name="velocity"/>
        <command_interface name="effort"/>
        <state_interface name="position"/>
        <state_interface name="velocity"/>
        <state_interface name="effort"/>
    </joint>
    <joint name="L_WRIST_R">
        <command_interface name="position"/>
        <command_interface name="velocity"/>
        <command_interface name="effort"/>
        <state_interface name="position"/>
        <state_interface name="velocity"/>
        <state_interface name="effort"/>
    </joint>
  </ros2_control>
</robot>
